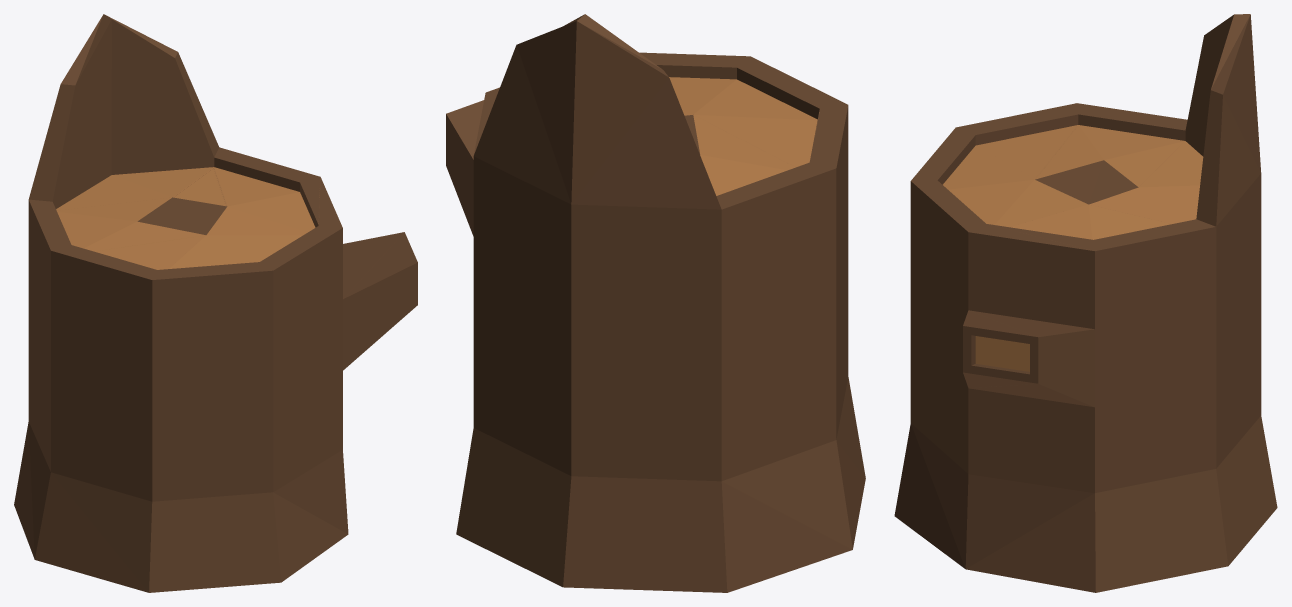
File: Planta_Tronco_004.fbx
3 renders of one model, left to right at view 1: azimuth 30°, elevation 25°; view 2: azimuth 150°, elevation 25°; view 3: azimuth 270°, elevation 25°, orthographic. The views are drawn at different scales.
Visible parts, largest first — view 1: TroncoCortado; view 2: TroncoCortado; view 3: TroncoCortado.
Part boxes in pixels (x1,y1,x2,y2): TroncoCortado: (14, 14, 417, 592); TroncoCortado: (446, 14, 865, 592); TroncoCortado: (894, 14, 1277, 592).
Size of the model in its own units: 57.44 by 70.85 by 49.75.
2 materials, 2 textured.
